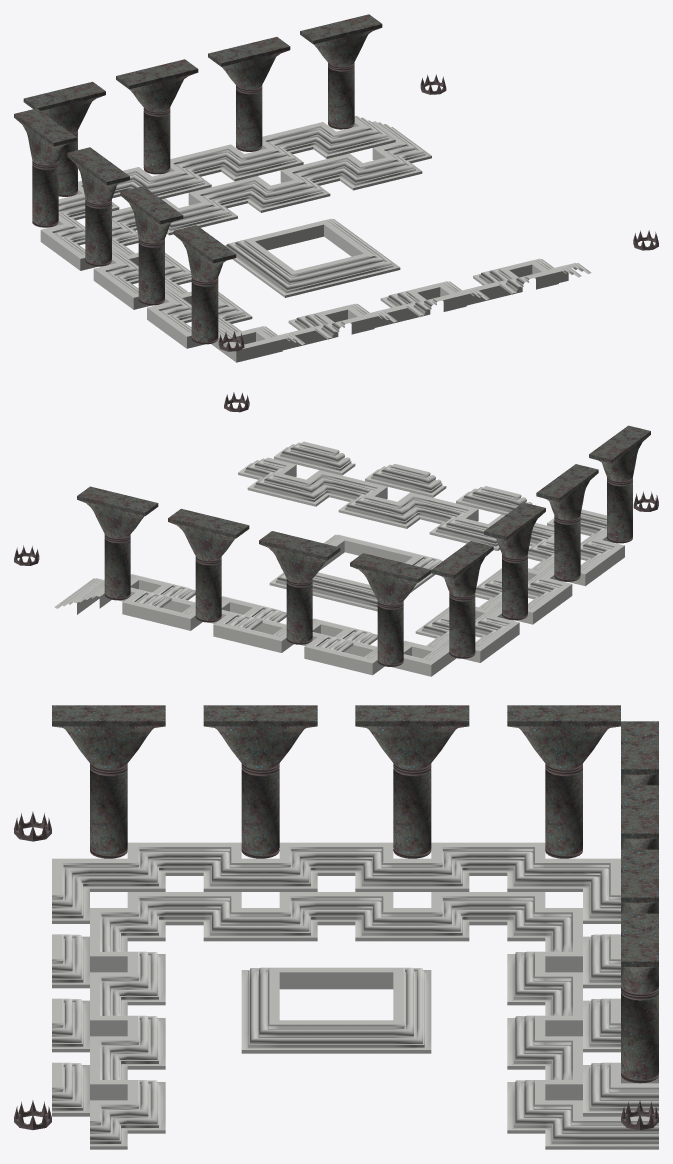
The picture shows the model from 3 angles, top to bottom: view 1: azimuth 30°, elevation 25°; view 2: azimuth 150°, elevation 25°; view 3: azimuth 270°, elevation 25°; orthographic projection. The views are drawn at different scales.
Visible parts, largest first — view 1: colored, textured_8715efa, textured_d66b4c5b; view 2: colored, textured_8715efa, textured_d66b4c5b; view 3: colored, textured_8715efa, textured_d66b4c5b.
Boxes of the visible parts, x1,y1,x2,y2 form: colored: [32, 63, 658, 362]; textured_8715efa: [14, 14, 382, 282]; textured_d66b4c5b: [32, 66, 354, 342]; colored: [14, 392, 658, 676]; textured_8715efa: [77, 425, 650, 605]; textured_d66b4c5b: [104, 481, 632, 664]; colored: [14, 763, 658, 1149]; textured_8715efa: [52, 705, 658, 994]; textured_d66b4c5b: [90, 768, 658, 1080].
Size of the model in its own units: 19 by 5 by 17.
3 materials, 2 textured.
